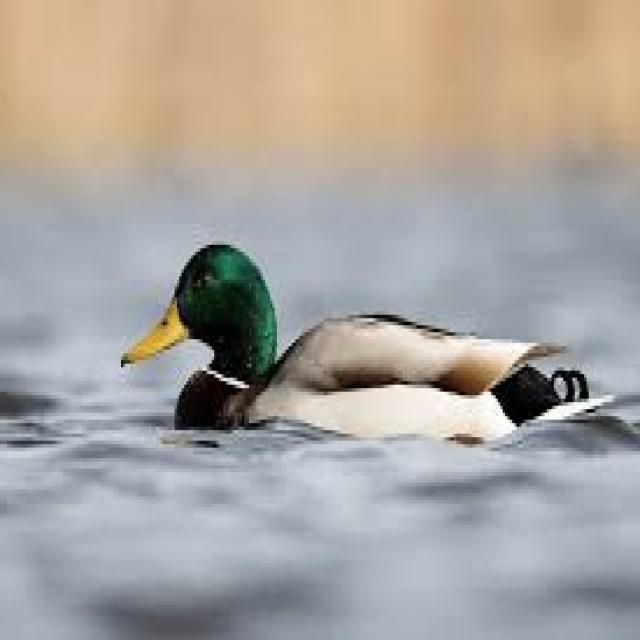duck: (123, 245, 610, 441)
